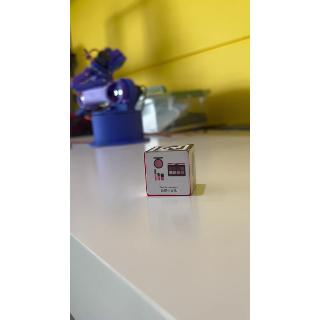Expired_Cosmetic: (146, 154, 193, 199)
